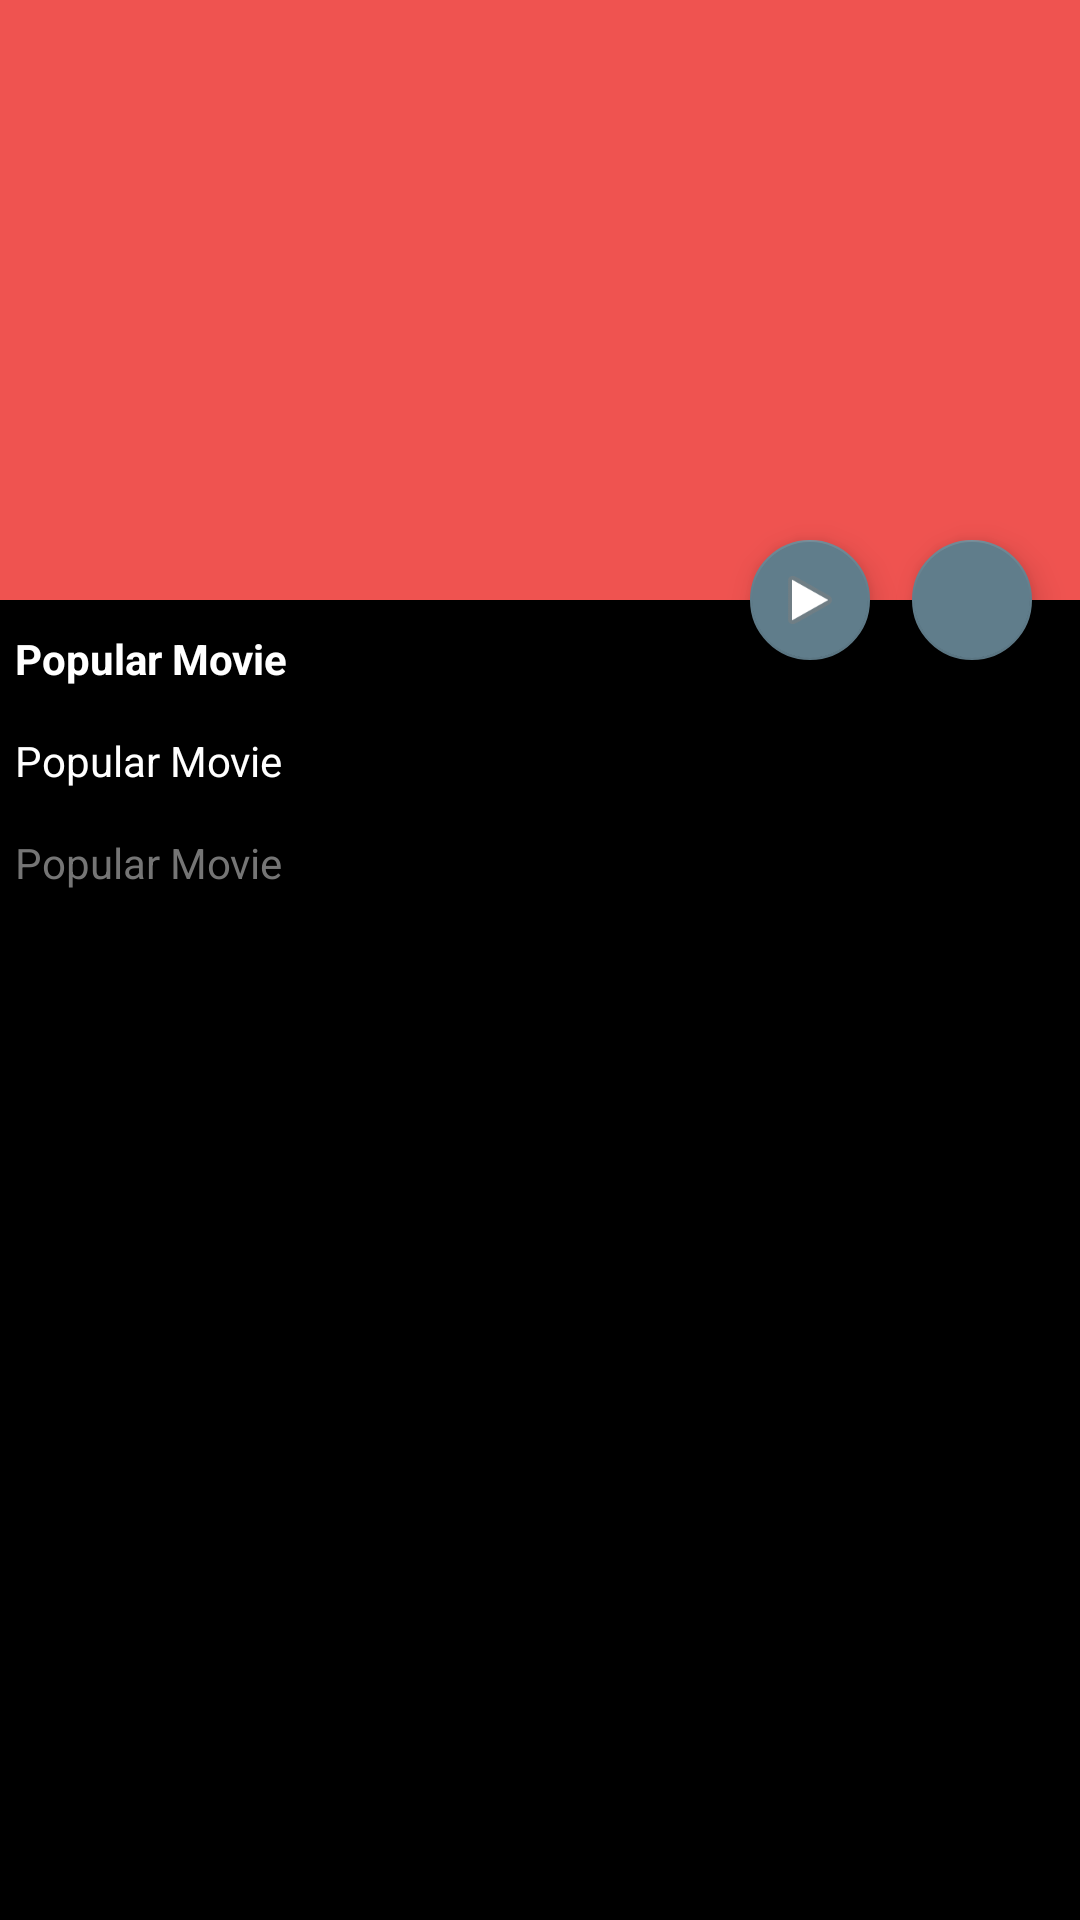

Icon click points for this 1080px x 1920px phone screenshot, format point (x, y):
play: point (810, 600)
